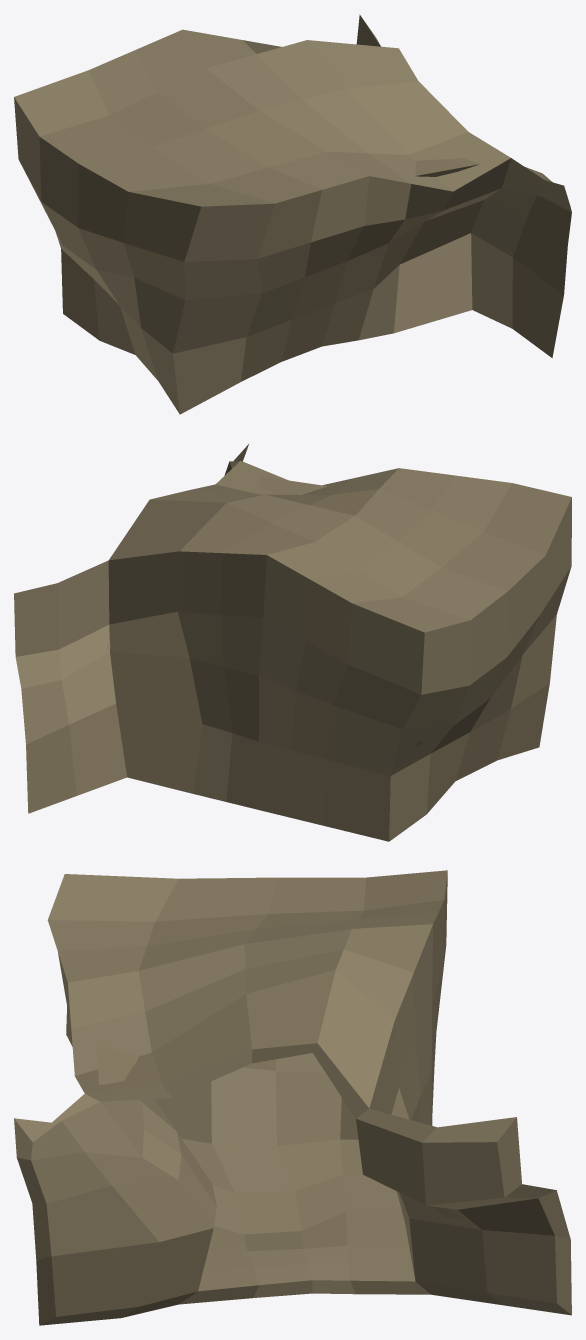
The picture shows the model from 3 angles, top to bottom: view 1: azimuth 30°, elevation 25°; view 2: azimuth 150°, elevation 25°; view 3: azimuth 270°, elevation 25°; orthographic projection. The views are drawn at different scales.
Parts seen in each view (by area): view 1: Cube.013; view 2: Cube.013; view 3: Cube.013.
Boxes of the visible parts, box(x1,y1,x2,y2) form: Cube.013: box(14, 14, 571, 414); Cube.013: box(14, 443, 571, 841); Cube.013: box(14, 870, 571, 1325).
Bounding box in the file's own units: 306 × 195 × 327.
